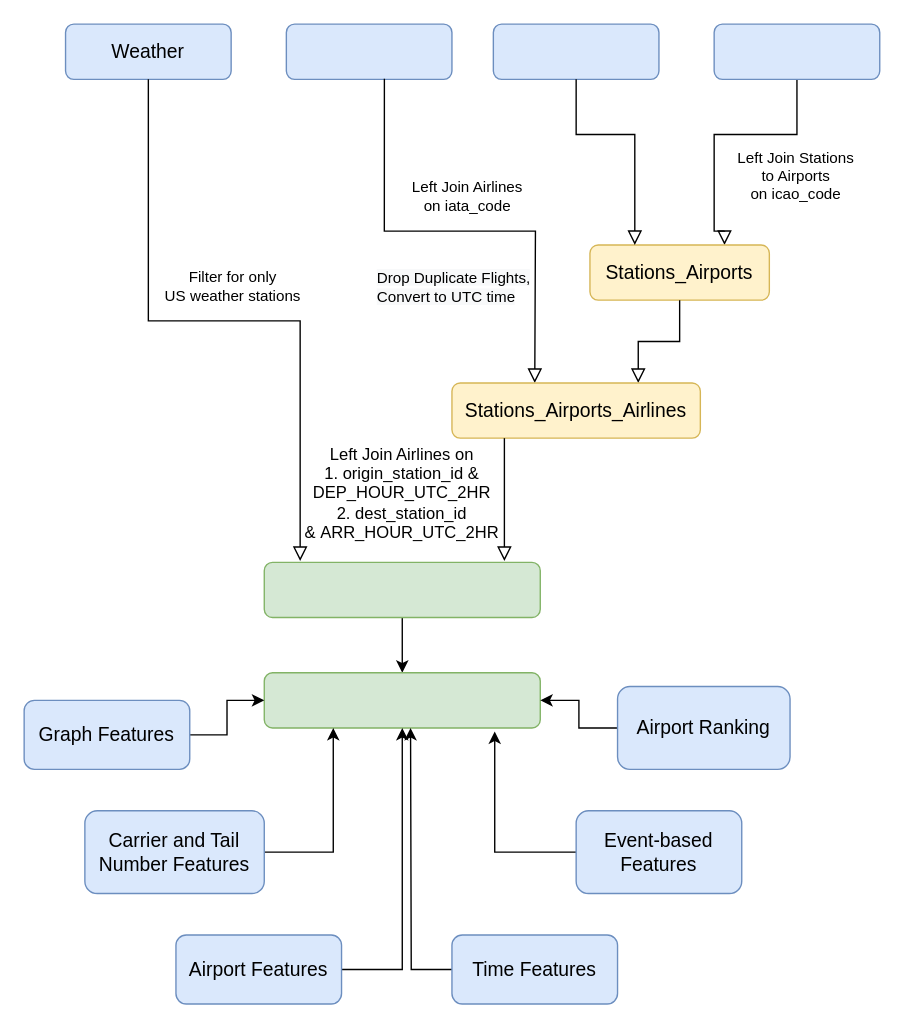
The diagram is 904 pixels wide and 1028 high, and some of its shapes have lost their labels. The centre of each missing label's shape, as x and y in pixels:
"Airlines" belongs at (368,51).
"Airports" belongs at (575,51).
"Final Joined Table" belongs at (401,589).
"Provided Joined Table" belongs at (401,699).
"Stations" belongs at (796,51).
